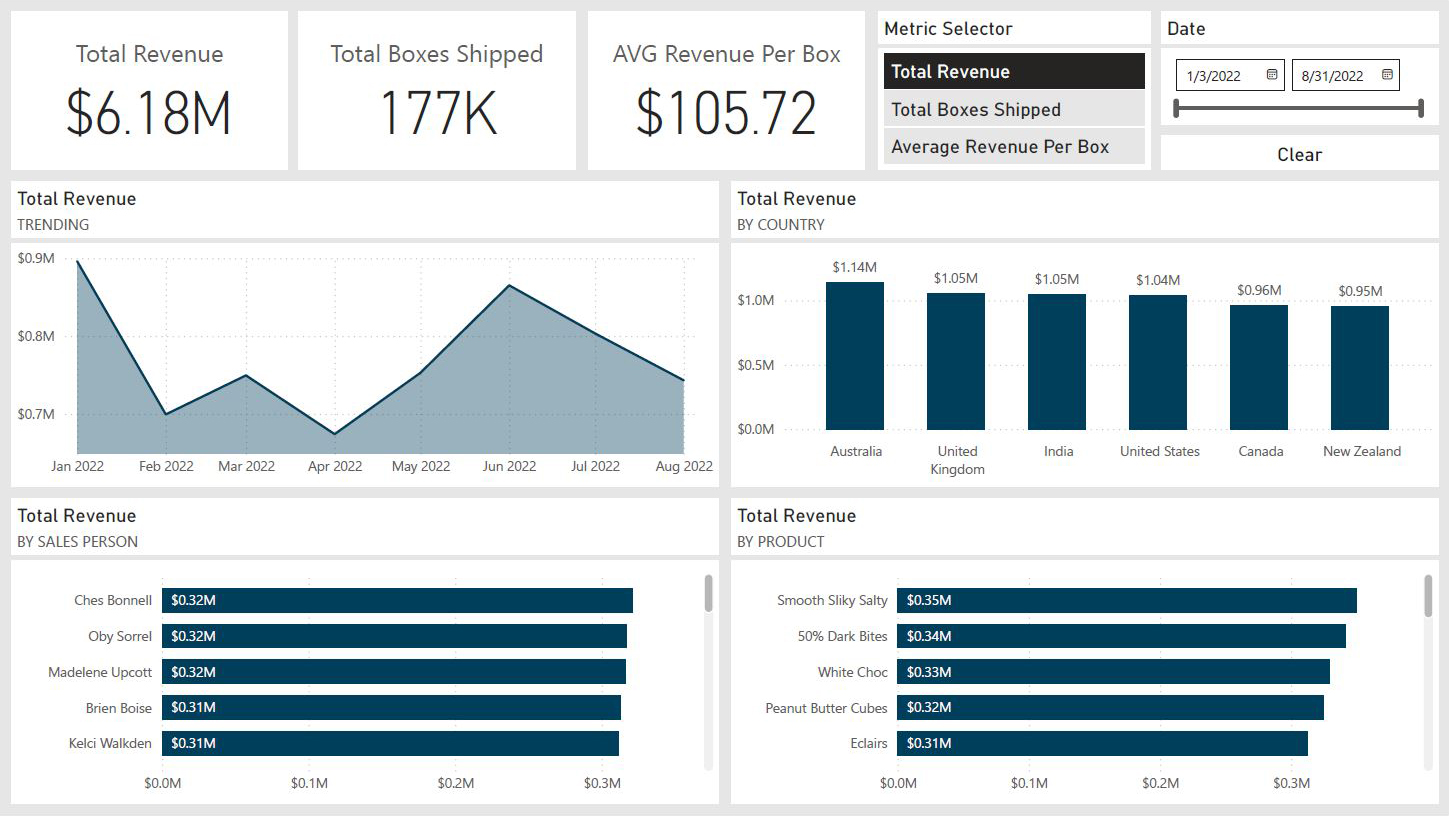

The page's visual inventory and layout, read from the dashboard file:
{"tool":"powerbi","page":{"name":"Page 1","canvas":[1280,720],"ordinal":0},"visuals":[{"type":"shape","box":[0,0,1280,720],"z":0},{"type":"areaChart","fields":{"Y":["measure_table.total_revenue"],"Category":["dim_date.Date.Variation.Date Hierarchy.Year","dim_date.Date.Variation.Date Hierarchy.Quarter","dim_date.Date.Variation.Date Hierarchy.Month","dim_date.Date.Variation.Date Hierarchy.Day"]},"box":[10,160,625,270],"z":1000},{"type":"cardVisual","fields":{"Data":["measure_table.total_revenue"]},"box":[10,10,244,140],"z":2000},{"type":"clusteredColumnChart","fields":{"Y":["measure_table.total_revenue"],"Category":["dim_country.Country"]},"box":[646,160,625,270],"z":3000},{"type":"advancedSlicerVisual","title":"Metric Selector","fields":{"Values":["metric_selector.metric_selector"]},"box":[776,10,240,140],"z":4000},{"type":"slicer","title":"Date","fields":{"Values":["dim_date.Date"]},"box":[1026,10,245,100],"z":5000},{"type":"cardVisual","fields":{"Data":["measure_table.total_boxes_shipped"]},"box":[264,10,244,140],"z":6000},{"type":"cardVisual","fields":{"Data":["measure_table.avg_revenue_per_box"]},"box":[520,10,244,140],"z":7000},{"type":"clusteredBarChart","fields":{"Y":["measure_table.total_revenue"],"Category":["dim_product.Product"]},"box":[646,440,625,270],"z":8000},{"type":"clusteredBarChart","fields":{"Y":["measure_table.total_revenue"],"Category":["dim_sales_person.Sales_Person"]},"box":[10,440,625,270],"z":9000},{"type":"actionButton","title":"Clear","box":[1026,120,245,30],"z":10000}]}

Visuals, with their boxes in screenshot pixels (x1, y1, x2, y2), scaled from the page's 1280x720 canvas onto the 1449x816 screenshot:
shape: [0,0,1448,815]
areaChart - measure_table.total_revenue x dim_date.Date.Variation.Date Hierarchy.Year: [11,181,719,487]
cardVisual - measure_table.total_revenue: [11,11,288,170]
clusteredColumnChart - measure_table.total_revenue x dim_country.Country: [731,181,1439,487]
"Metric Selector" advancedSlicerVisual: [878,11,1150,170]
"Date" slicer: [1161,11,1439,125]
cardVisual - measure_table.total_boxes_shipped: [299,11,575,170]
cardVisual - measure_table.avg_revenue_per_box: [589,11,865,170]
clusteredBarChart - measure_table.total_revenue x dim_product.Product: [731,499,1439,805]
clusteredBarChart - measure_table.total_revenue x dim_sales_person.Sales_Person: [11,499,719,805]
"Clear" actionButton: [1161,136,1439,170]
